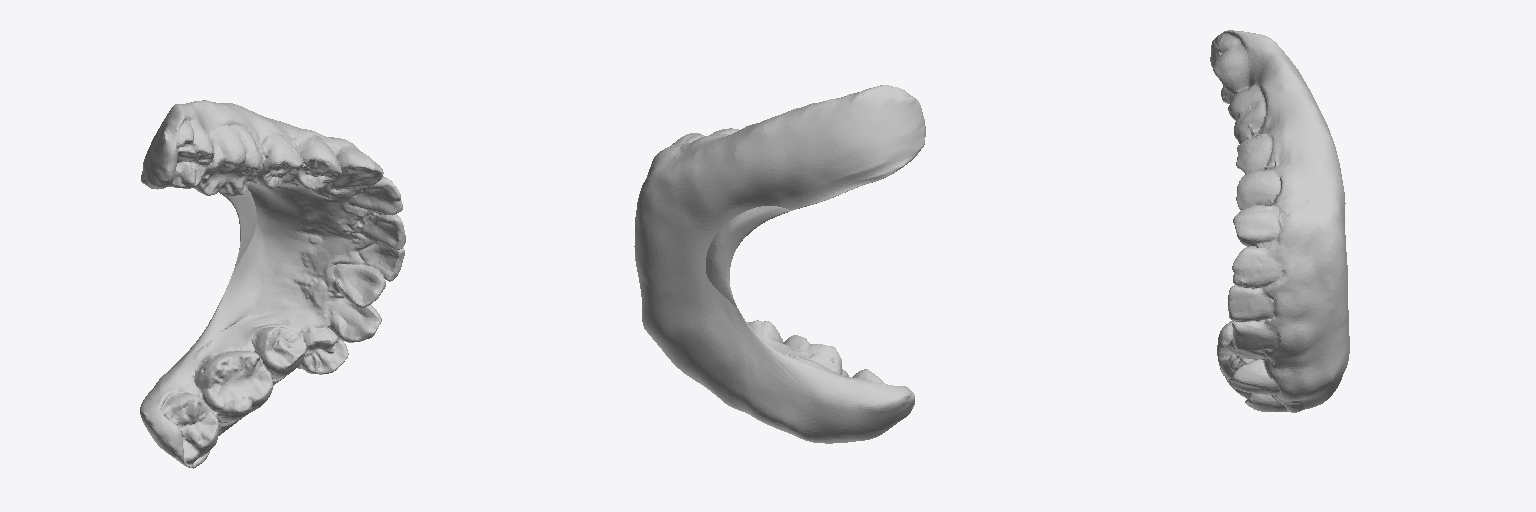
Rendered from MdInit_7780.OBJ.
The picture shows the model from 3 angles: view 1: azimuth 30°, elevation 25°; view 2: azimuth 150°, elevation 25°; view 3: azimuth 270°, elevation 25°; orthographic projection.
Visible parts, largest first — view 1: Group42831; view 2: Group42831; view 3: Group42831.
Part boxes in pixels (bbox=[...]): Group42831: bbox=[140, 100, 405, 468]; Group42831: bbox=[634, 85, 925, 443]; Group42831: bbox=[1210, 30, 1349, 412].
Bounding box in the file's own units: 46.19 × 61.36 × 21.66.